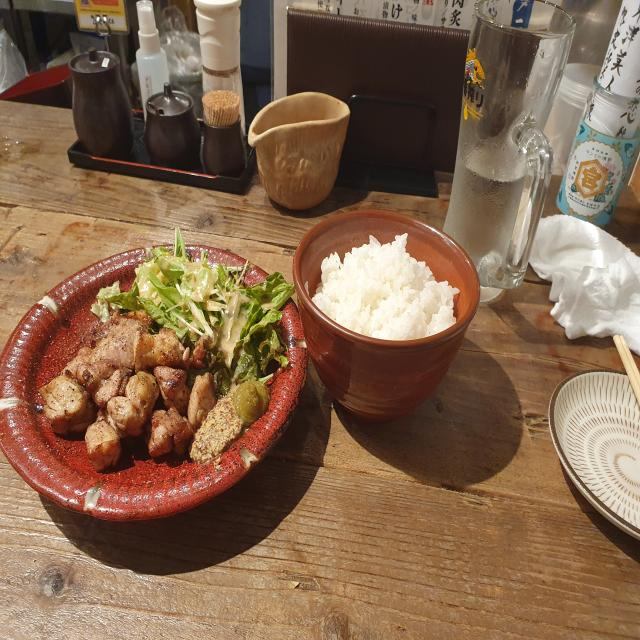Bowl: (292, 208, 480, 424)
Cup: (441, 0, 576, 302), (252, 99, 349, 210)
Plate: (0, 242, 309, 522), (548, 369, 640, 541)
